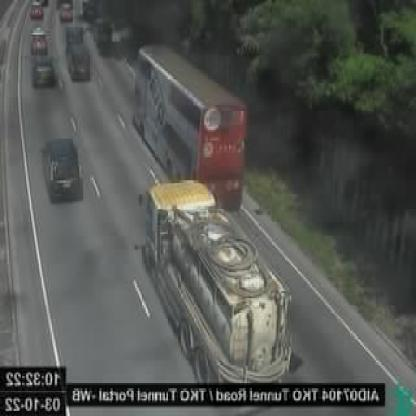Bus: (137, 45, 247, 208)
Car: (42, 135, 86, 201), (68, 42, 94, 82), (33, 56, 57, 88), (31, 28, 51, 52)
Truck: (147, 179, 290, 382)
